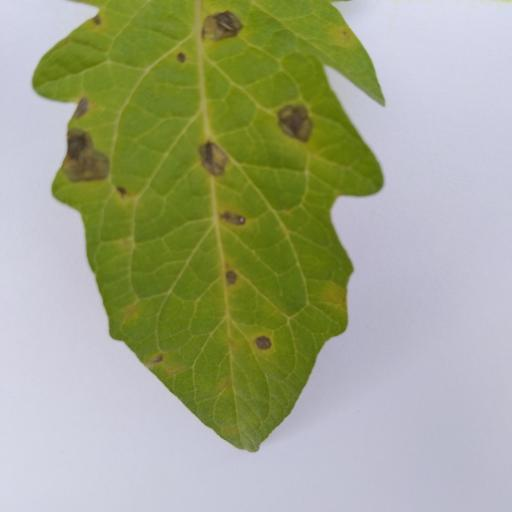disease_tomato: (30, 0, 388, 454)
